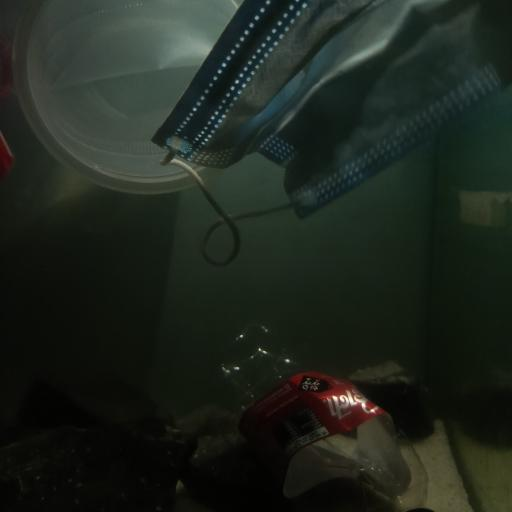mask: (149, 0, 512, 270)
plastic_bottle: (210, 317, 417, 512)
plastic_cup: (12, 0, 253, 194)
